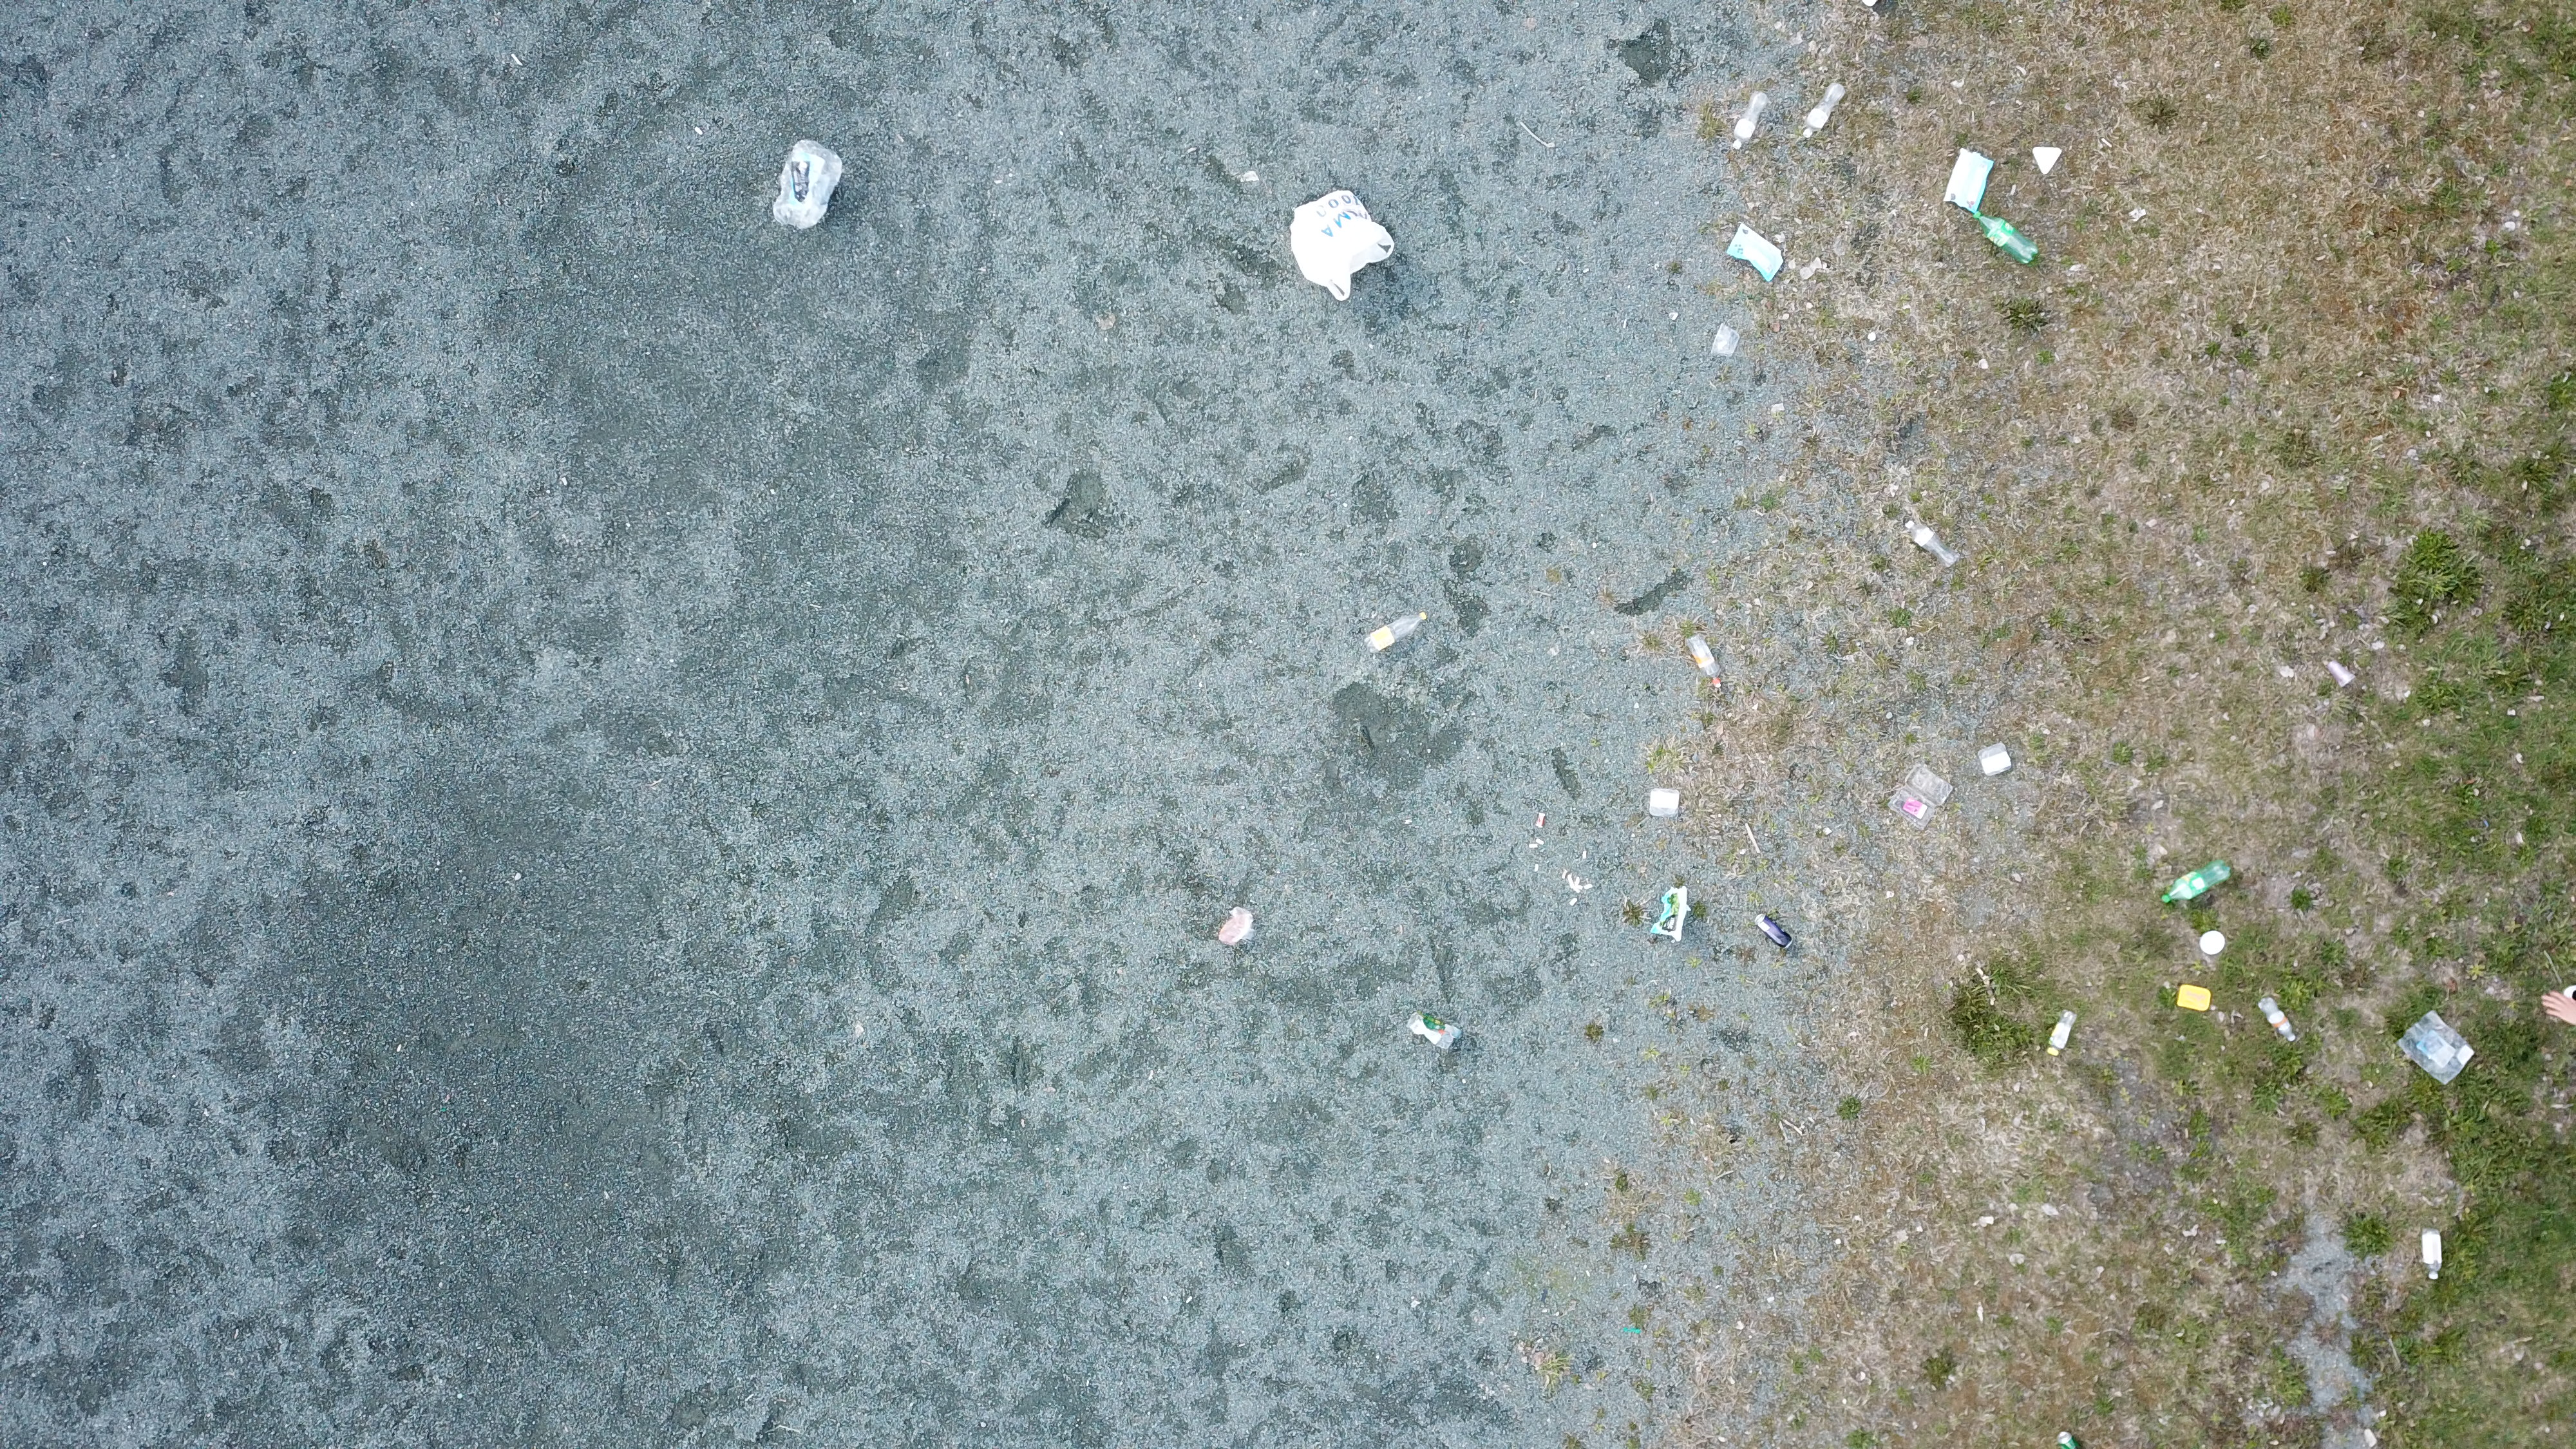Can: (1753, 913, 1796, 952), (2056, 1431, 2082, 1449)
Plastic: (1286, 188, 1396, 304), (773, 138, 846, 237), (2396, 1008, 2475, 1086), (1888, 764, 1953, 830), (1725, 223, 1783, 287), (1943, 149, 1994, 216), (1405, 1008, 1465, 1051), (1652, 883, 1691, 941), (1219, 906, 1258, 947), (1976, 743, 2013, 778), (1649, 787, 1683, 819), (2176, 985, 2213, 1014), (1713, 322, 1741, 357), (2031, 147, 2061, 179), (2325, 658, 2357, 688), (2196, 931, 2227, 955), (1534, 812, 1545, 832)
PlasticBottle: (1969, 212, 2042, 267), (2158, 856, 2233, 906), (1362, 610, 1428, 656), (1905, 520, 1962, 568), (1799, 81, 1844, 142), (1730, 90, 1767, 152), (1683, 632, 1721, 690), (2259, 994, 2296, 1044), (2045, 1007, 2075, 1058), (2419, 1228, 2445, 1281)
